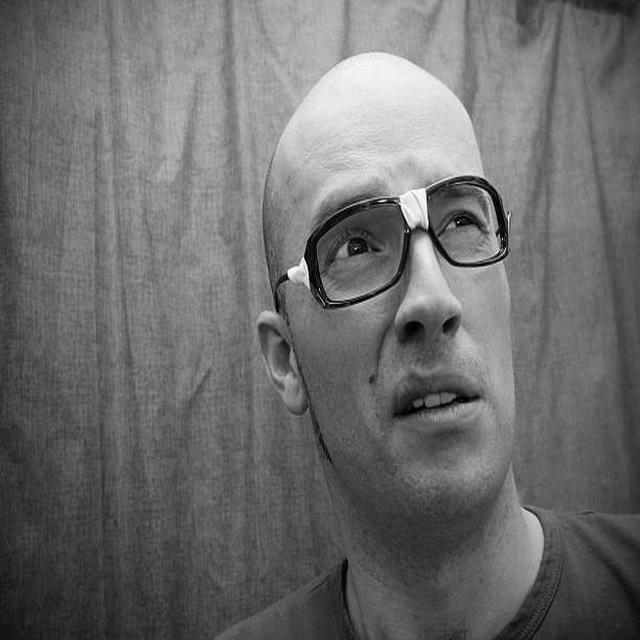Disgust: (264, 53, 516, 523)
